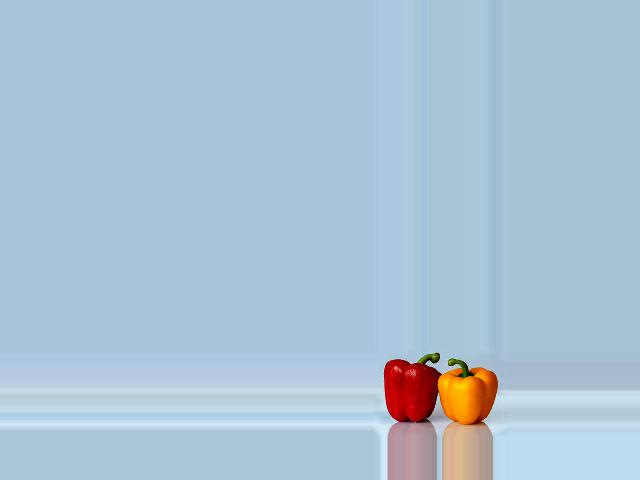bell_pepper: (378, 355, 442, 429)
